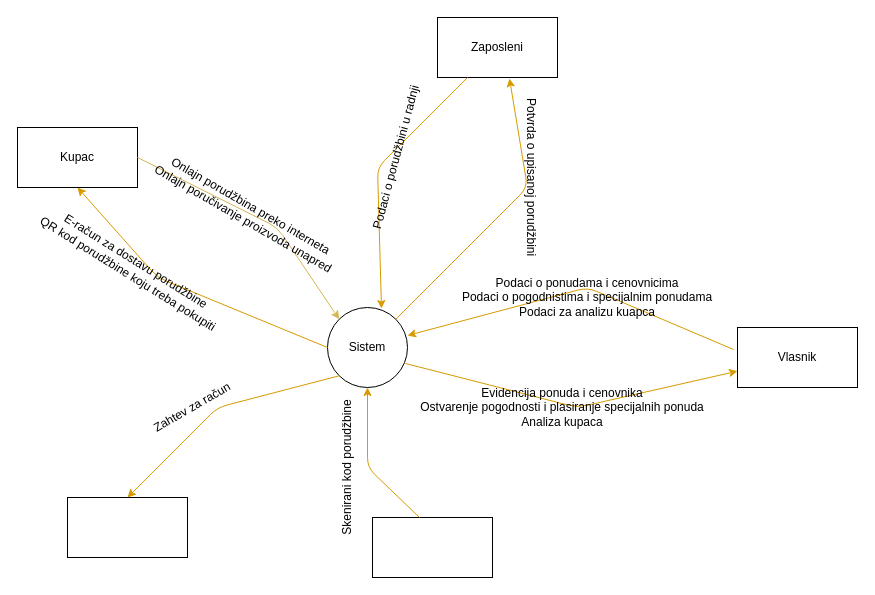
Some shapes in this 875 by 595 pixel diagram are drawn without their labels. Here are the shapes that lost their labels. From the top down, the centre of each, then its label:
pixel 127 527: Fiskalna kasa
pixel 432 547: QR skener
